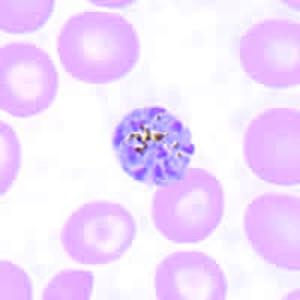Infected: (112, 106, 195, 186)
Uninfected: (58, 11, 140, 85), (150, 168, 224, 243), (60, 200, 136, 266), (243, 105, 300, 186), (0, 41, 58, 118), (245, 193, 300, 271), (241, 18, 300, 90), (154, 251, 225, 300)
